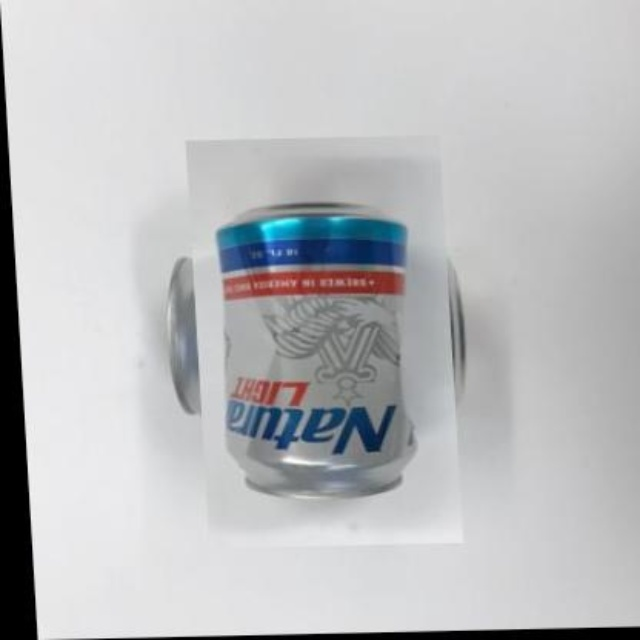trash: (217, 203, 414, 495)
